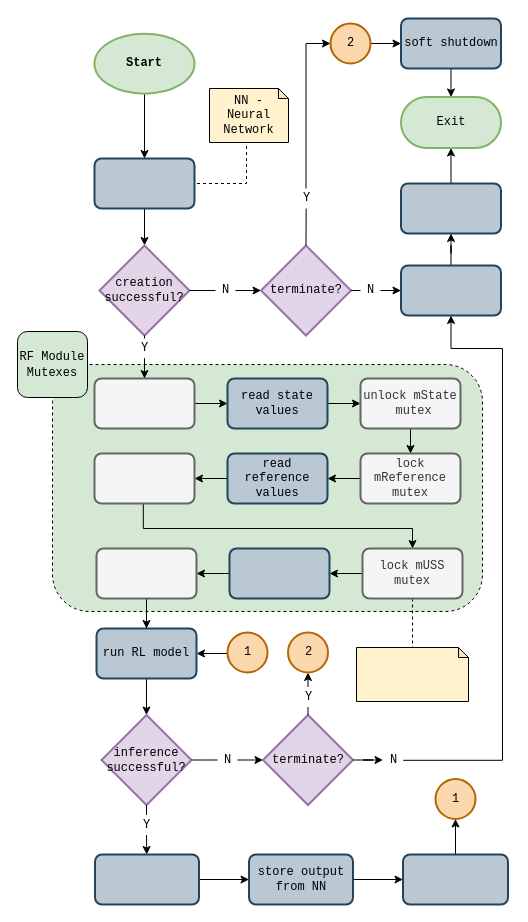
This 528x922 diagram has some shape labels left out. The shapes that lost their labels are listed below. From the top down, each one's centre as x and y in pixels, then its label:
At point (144, 183): "create NN instance".
At point (451, 208): "request reboot".
At point (451, 290): "report error".
At point (144, 403): "lock mState mutex".
At point (144, 478): "unlock mReference mutex".
At point (146, 573): "unlock mUSS mutex".
At point (279, 573): "read USS values".
At point (412, 674): "USS - Ultrasonic Sensors".
At point (147, 879): "lock mActuator mutex".
At point (455, 879): "unlock mActuator mutex".
